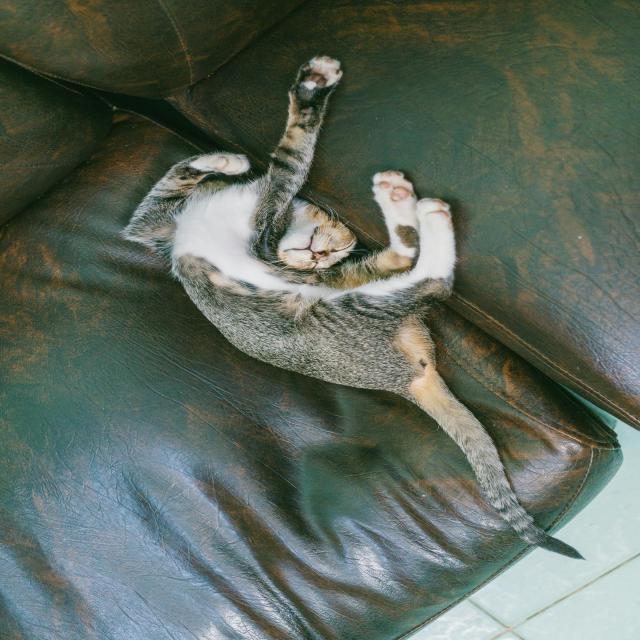Cat: (119, 54, 586, 561)
